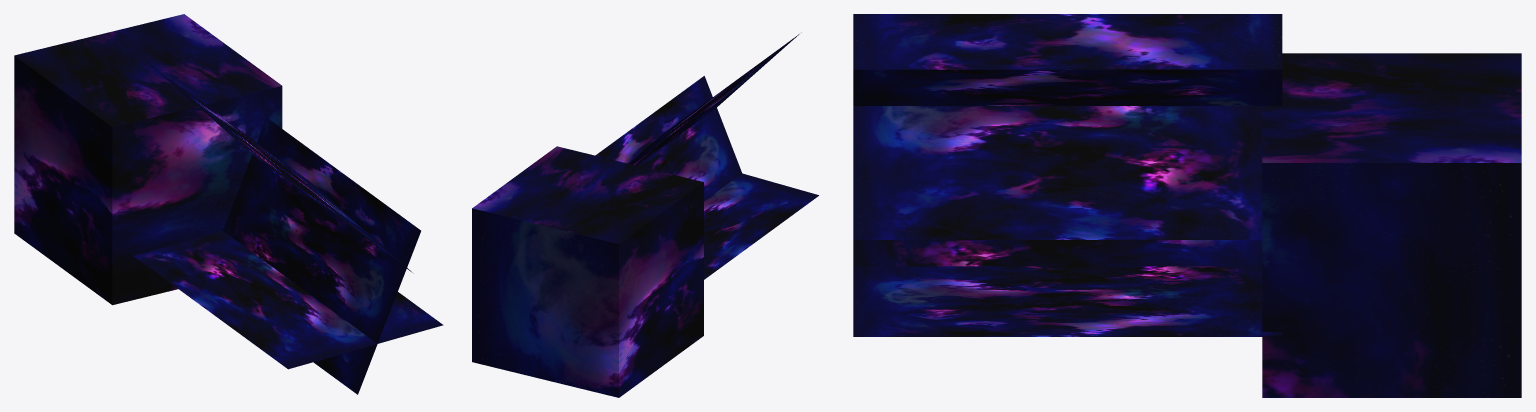
Rendered from uzay.fbx.
3 renders of one model, left to right at view 1: azimuth 30°, elevation 25°; view 2: azimuth 150°, elevation 25°; view 3: azimuth 270°, elevation 25°, orthographic. The views are drawn at different scales.
Visible parts, largest first — view 1: Cube.005, Plane, Plane.008, Plane.005; view 2: Cube.005, Plane, Plane.008, Plane.005; view 3: Cube.005, Plane.005, Plane.008, Plane.007, Plane.006.
Boxes of the visible parts, <box> form: Cube.005: <box>14,14,282,305</box>; Plane: <box>223,117,420,394</box>; Plane.008: <box>134,230,443,369</box>; Plane.005: <box>148,63,413,273</box>; Cube.005: <box>472,146,703,397</box>; Plane: <box>595,76,742,200</box>; Plane.008: <box>704,173,818,279</box>; Plane.005: <box>624,32,801,167</box>; Cube.005: <box>1262,53,1521,397</box>; Plane.005: <box>853,14,1282,239</box>; Plane.008: <box>853,266,1282,335</box>; Plane.007: <box>853,69,1282,105</box>; Plane.006: <box>853,240,1262,336</box>.
Bounding box in the file's own units: 35592 × 43943 × 88396.
Materials: 1 (1 with a texture image).
